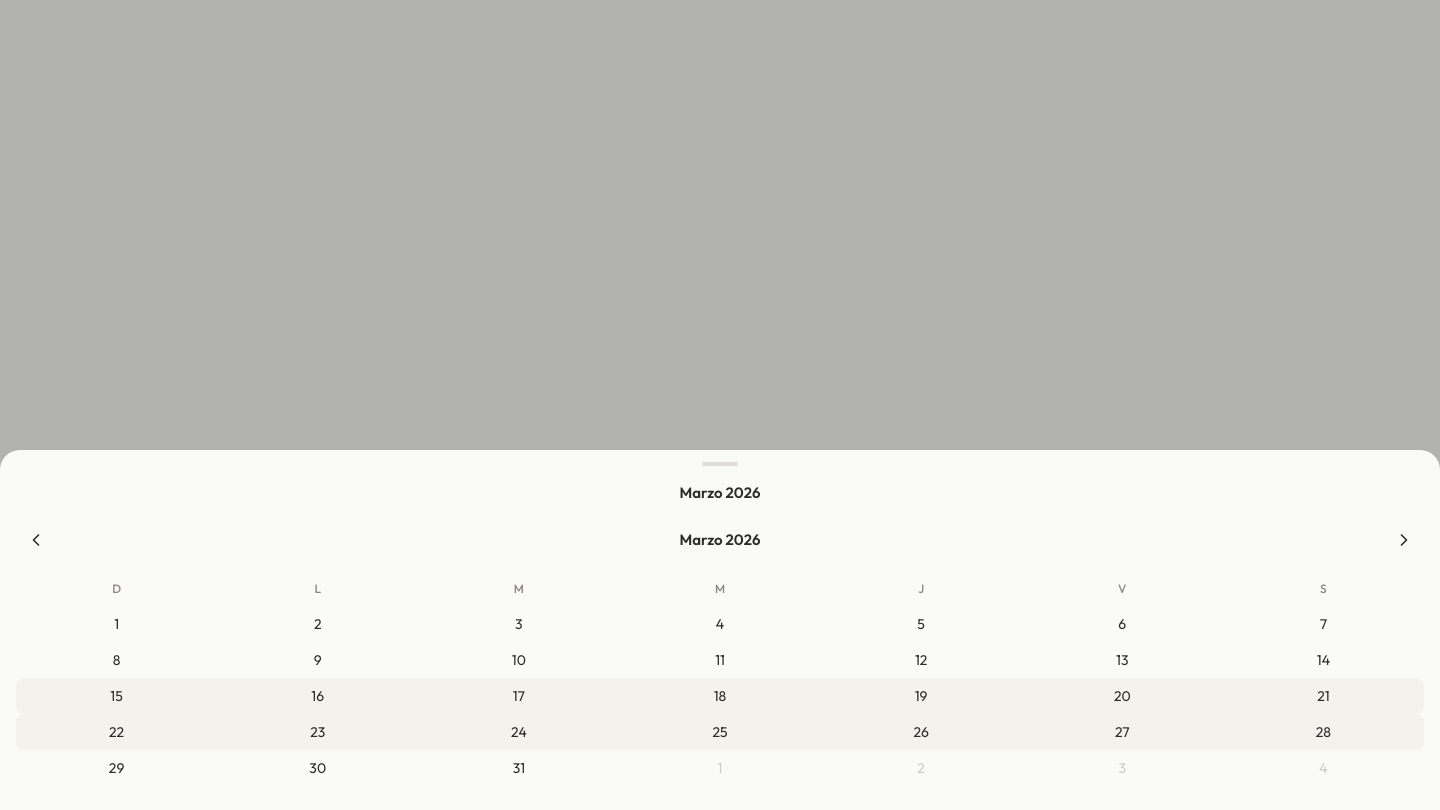
WeekCalendarModal › prev month button changes displayed month to February 2026
Click the button named "Mes anterior".
click(36, 540)  # box [16, 520, 56, 560]
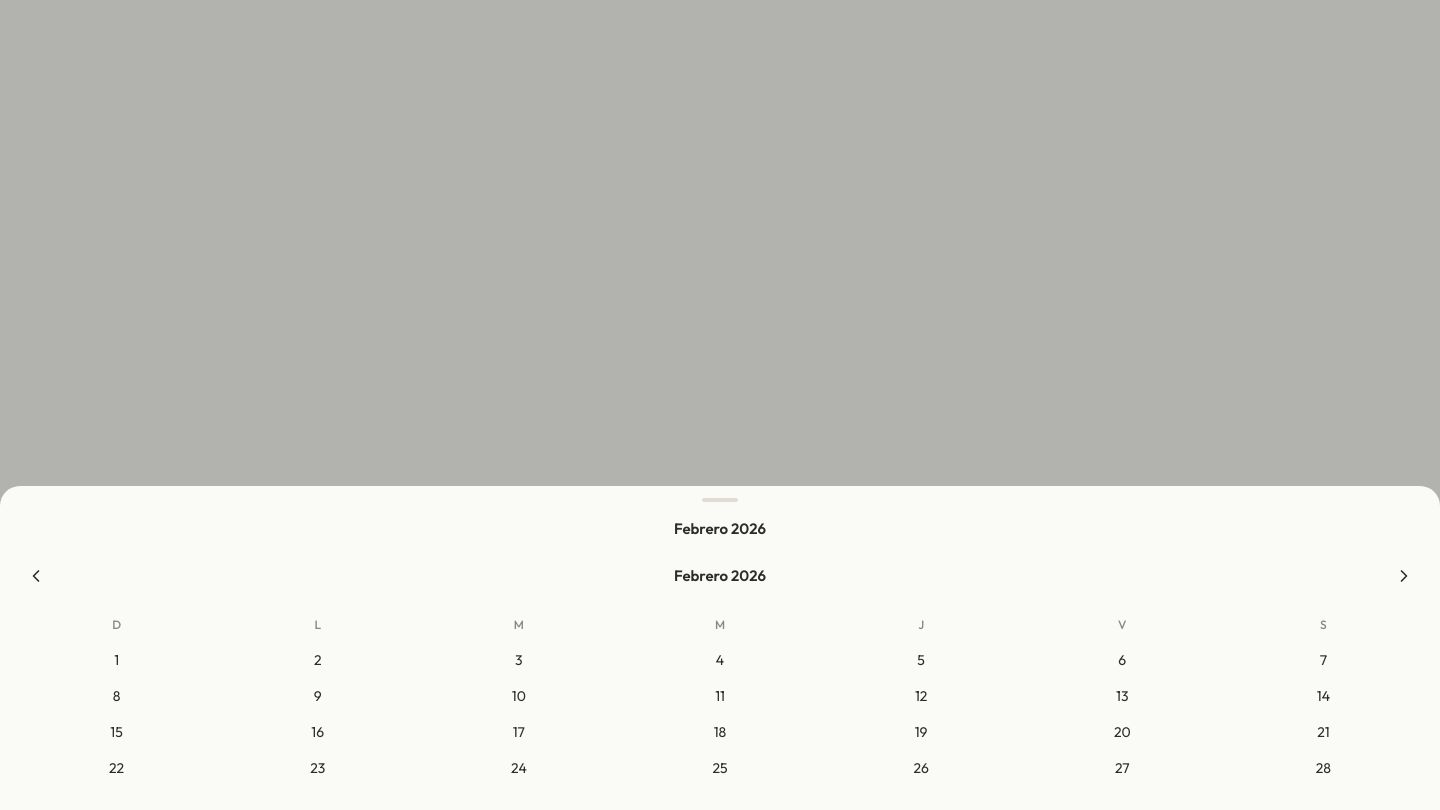
Result: the 1st text "Febrero 2026" is shown at [674, 518, 766, 538]
